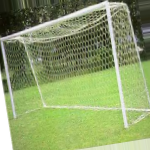goals: (2, 1, 150, 126)
